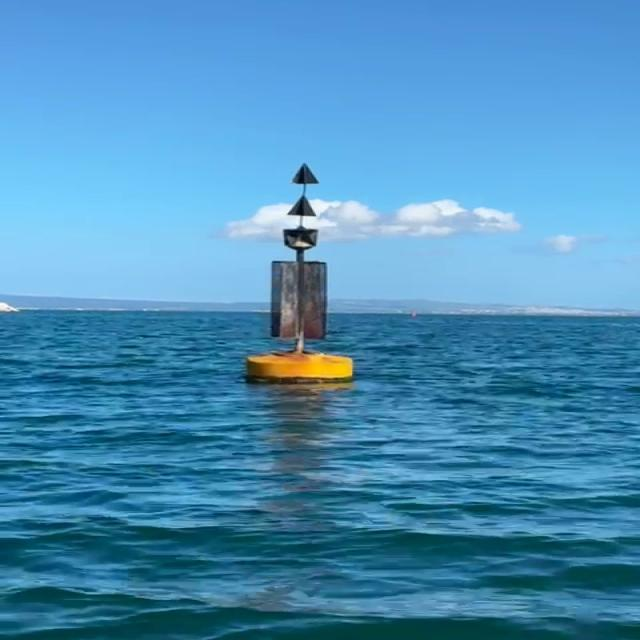marque: (245, 165, 349, 385)
